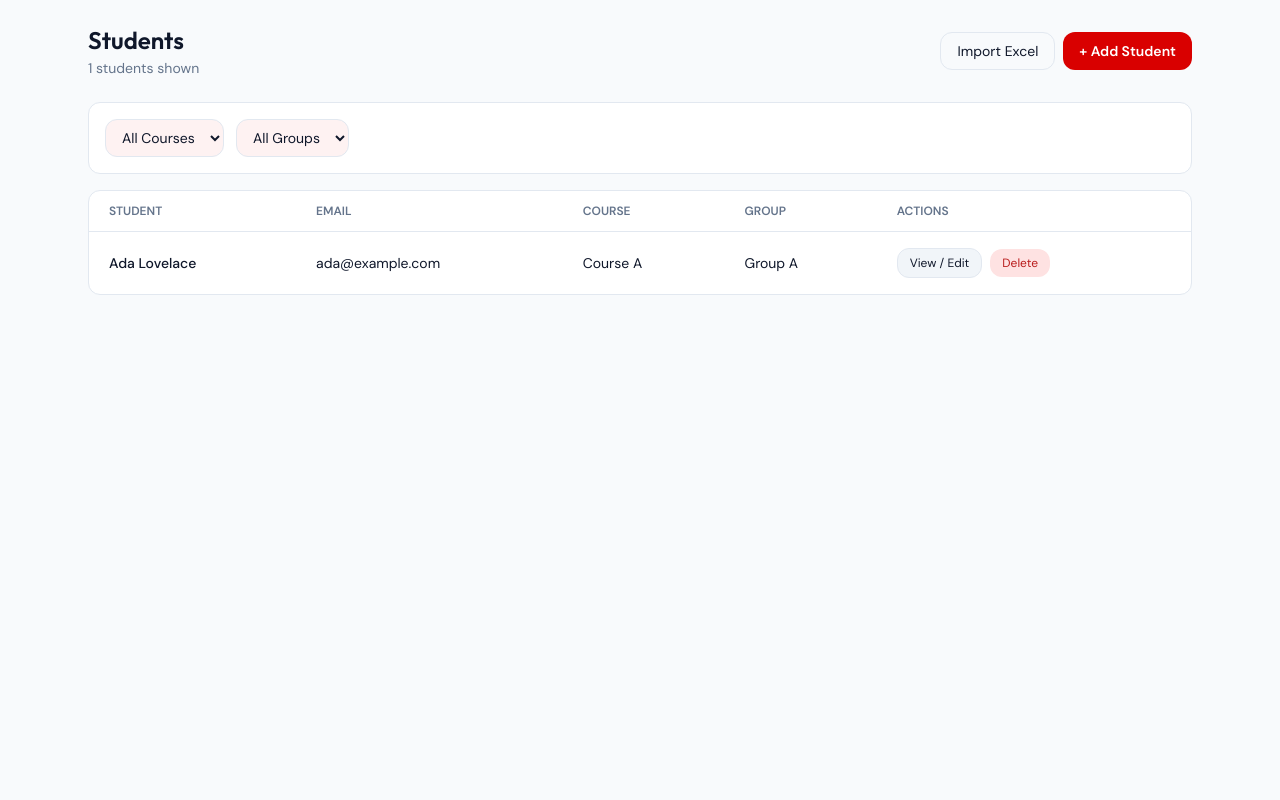
it: AdminStudents › requires name, email and group before saving
Expected: the heading "Students" is shown, [88,24,199,56]
Expected: the text "Ada Lovelace" is shown, [89,232,296,294]
Step 1. Click the button "+ Add Student" → (1128, 51), box [1063,32,1192,70]
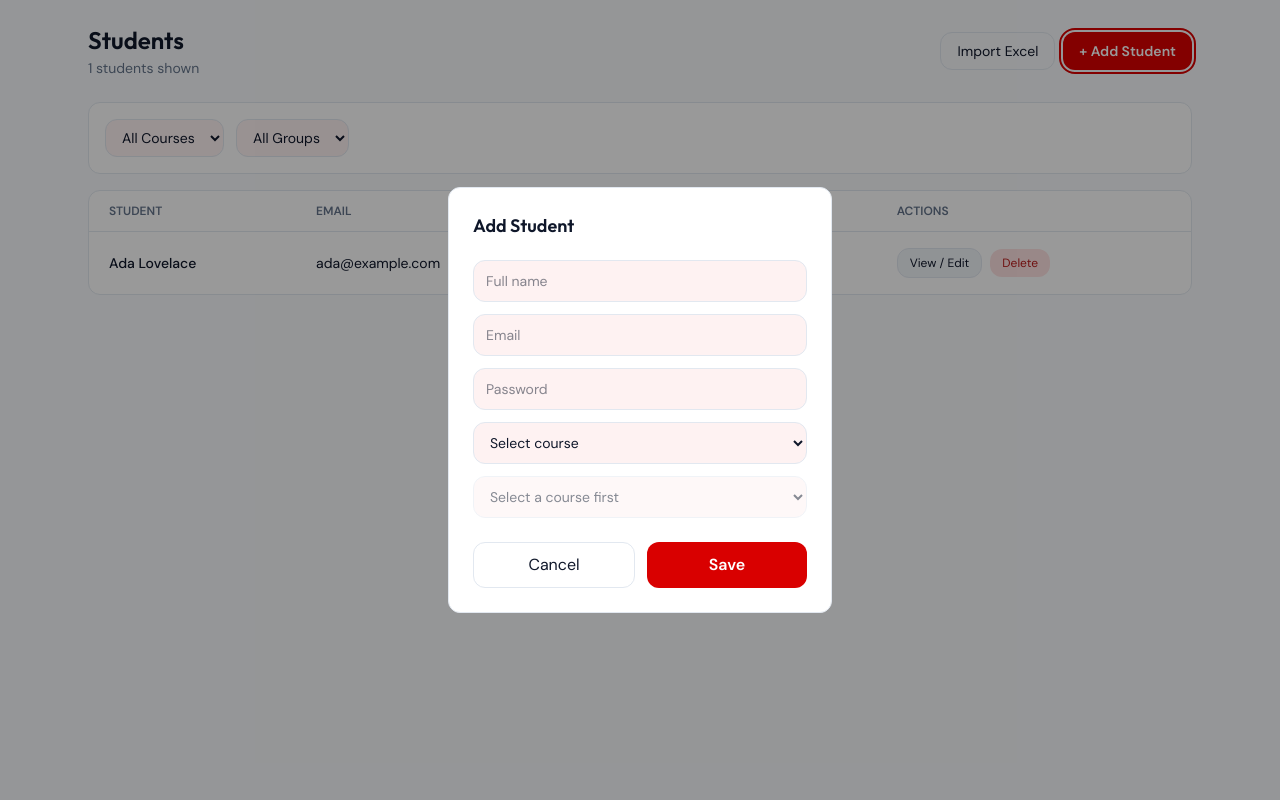
Step 2. Click the button "Save" → (727, 565), box [647,542,807,588]
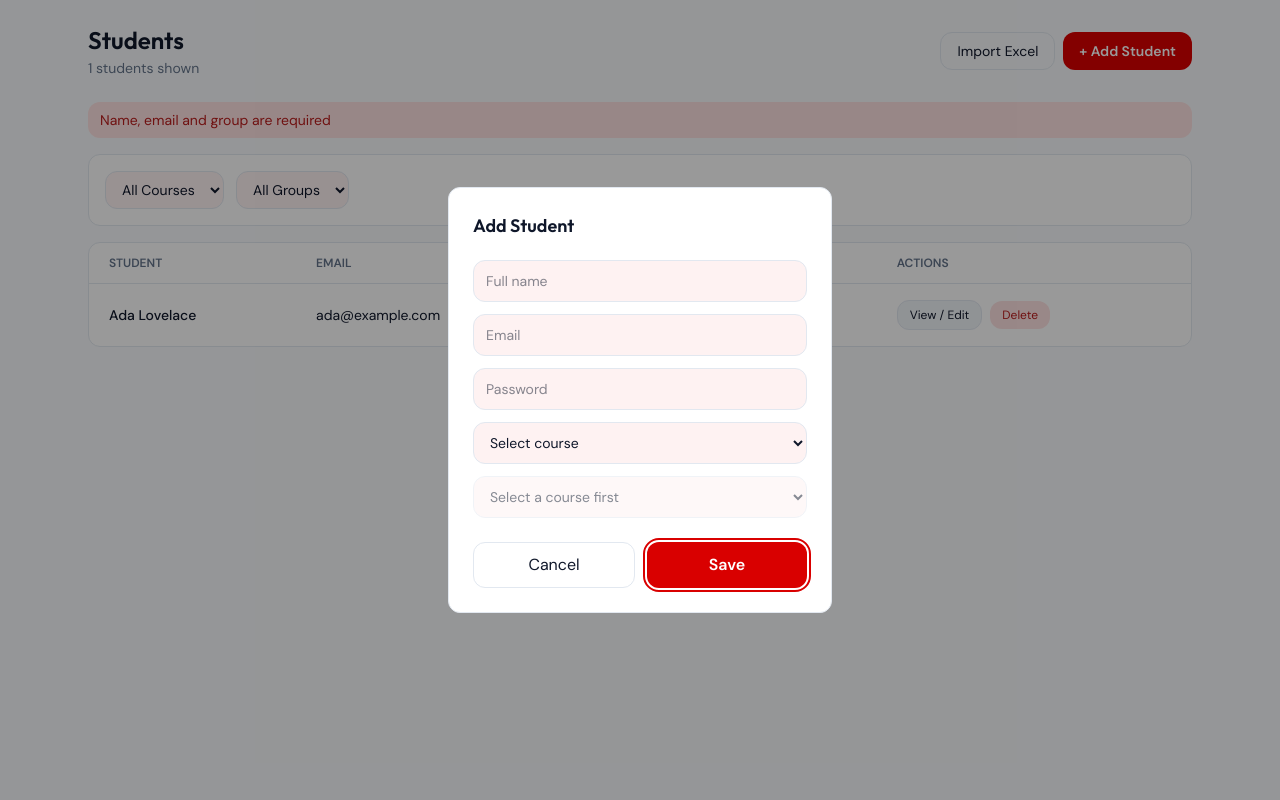
Expected: the text "Name, email and group are required" is shown, [88,102,1192,138]
